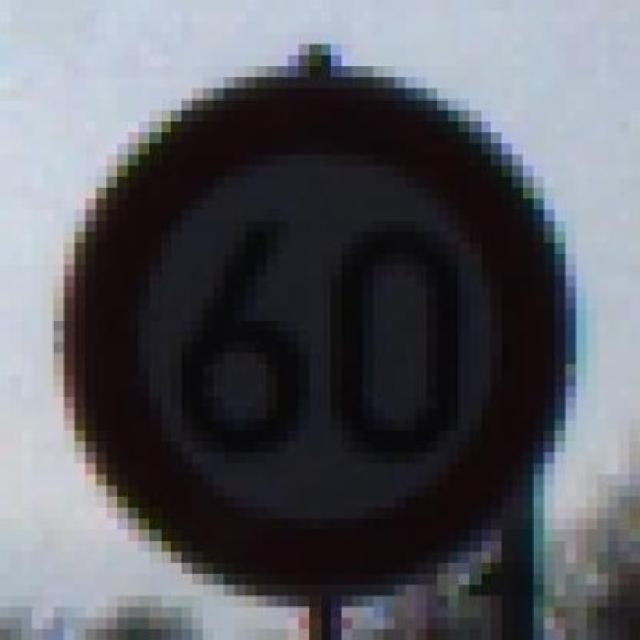forb_speed_over_60: (72, 73, 565, 592)
